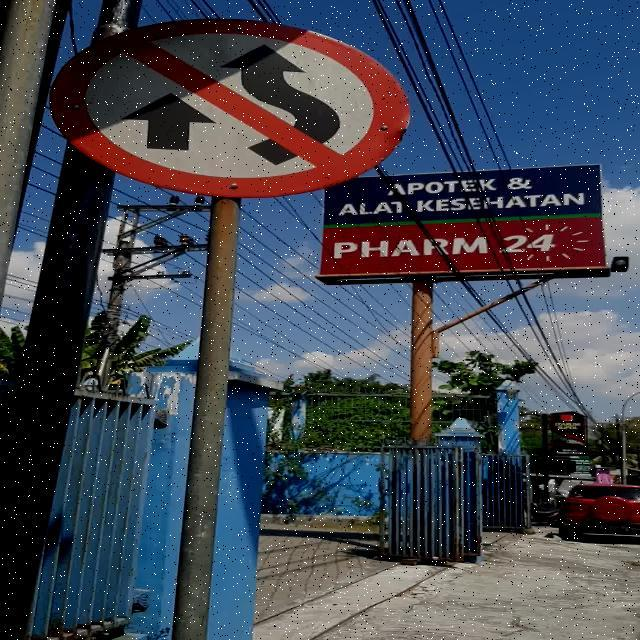Dilarang Mendahului: (47, 17, 409, 196)
